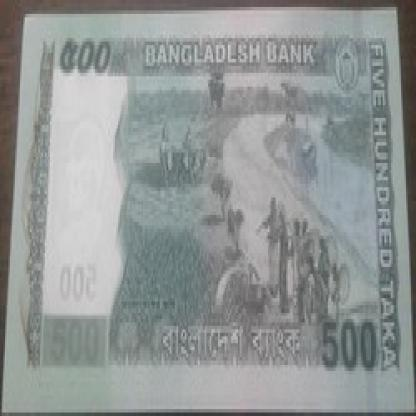500 taka: (313, 309, 396, 382), (52, 24, 124, 90)
currency: (2, 14, 414, 409)
